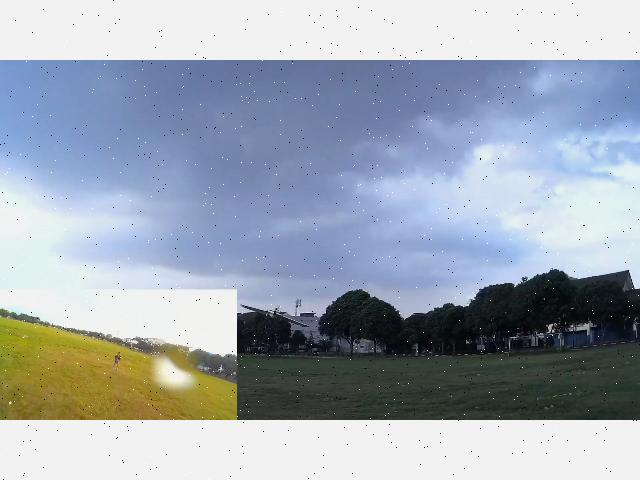Anti-Drone: (238, 295, 318, 338)
